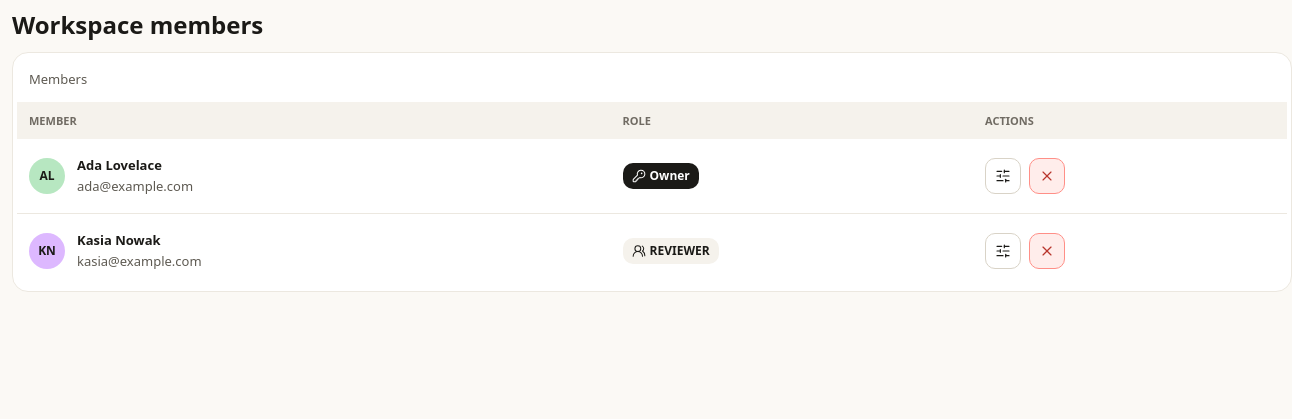
Scenario: changes Editor, Viewer and Owner roles through keyboard menus and refetched badges
Expected: the text "REVIEWER" is shown, x1=623 y1=238 x2=719 y2=264
Expected: the column headings read "Member", "Role", "Actions", in this order, x1=17 y1=102 x2=611 y2=139; x1=611 y1=102 x2=973 y2=139; x1=973 y1=102 x2=1287 y2=139
Press ArrowDown in the button named "Role for Kasia Nowak", box x1=985 y1=233 x2=1021 y2=269
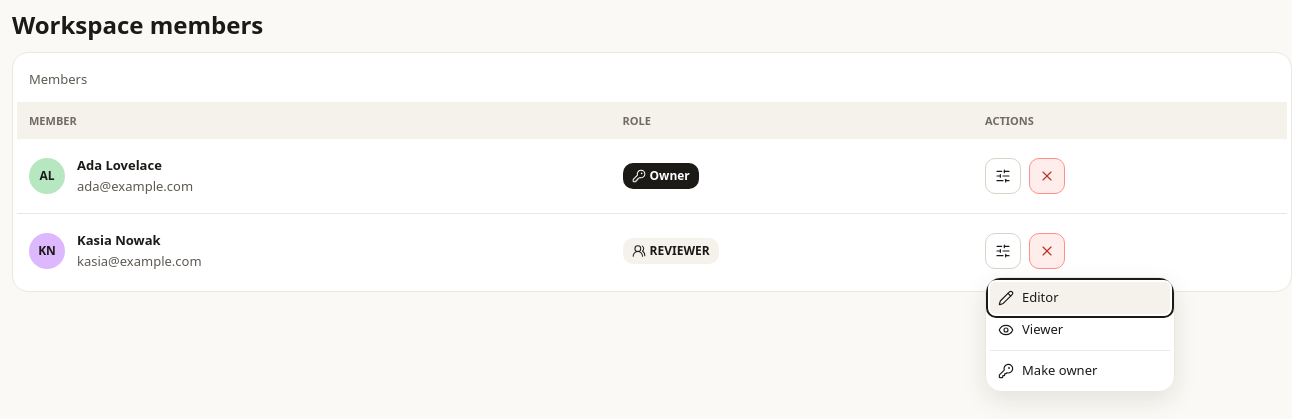
Click the menu item "Editor": (1080, 298) x1=990 y1=282 x2=1170 y2=314
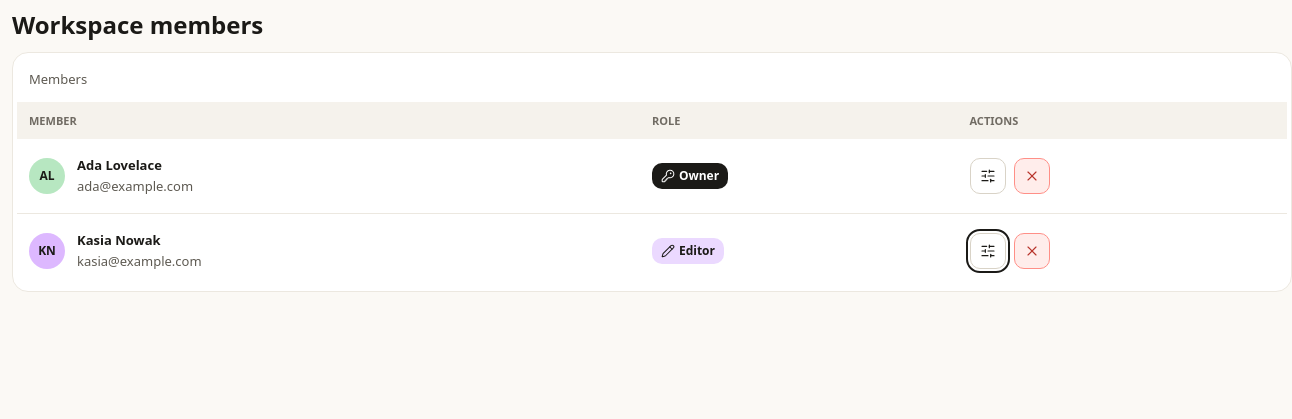
Now the row "KN Kasia Nowak kasia@example.com Editor" is shown, box x1=17 y1=213 x2=1287 y2=287
Press ArrowDown in the button named "Role for Kasia Nowak", box x1=970 y1=233 x2=1006 y2=269
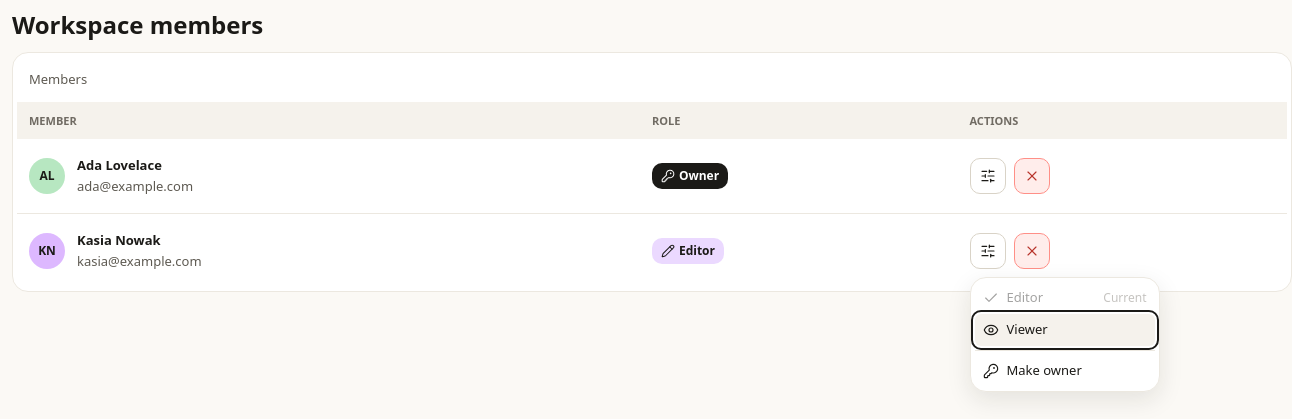
Click the menu item "Viewer": (1064, 330) x1=974 y1=314 x2=1154 y2=346
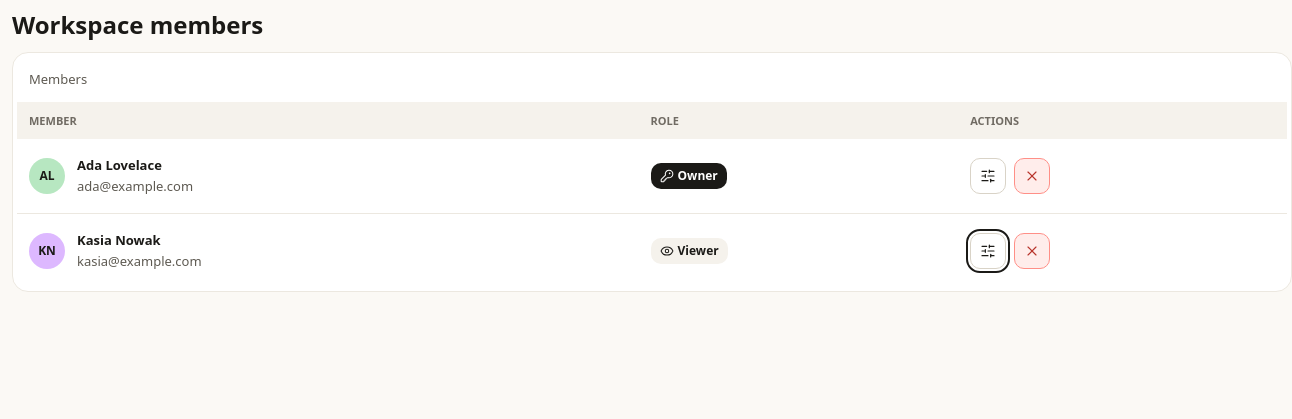
Now the row "KN Kasia Nowak kasia@example.com Viewer" is shown, box x1=17 y1=213 x2=1287 y2=287
Press ArrowDown in the button named "Role for Kasia Nowak", box x1=970 y1=233 x2=1006 y2=269
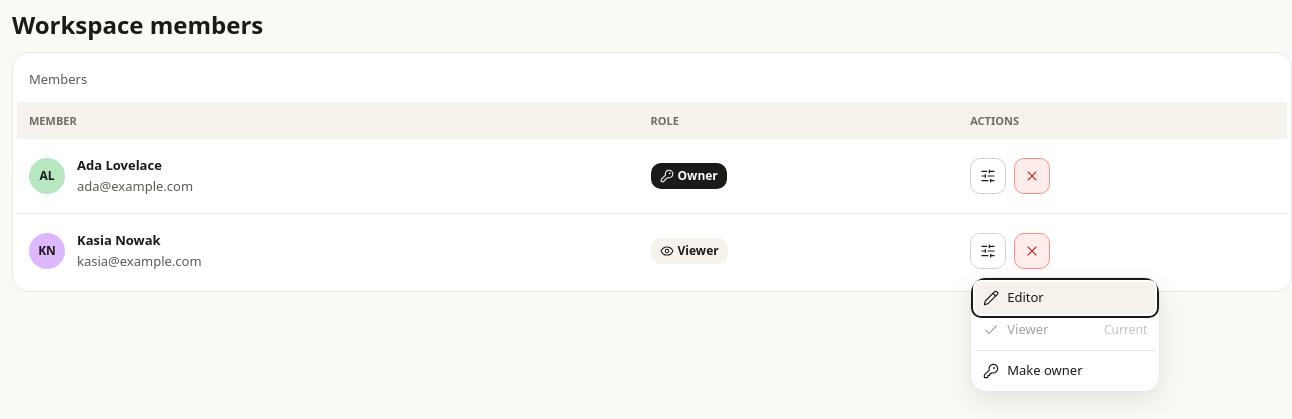
Click the menu item "Make owner": (1065, 371) x1=975 y1=355 x2=1155 y2=387
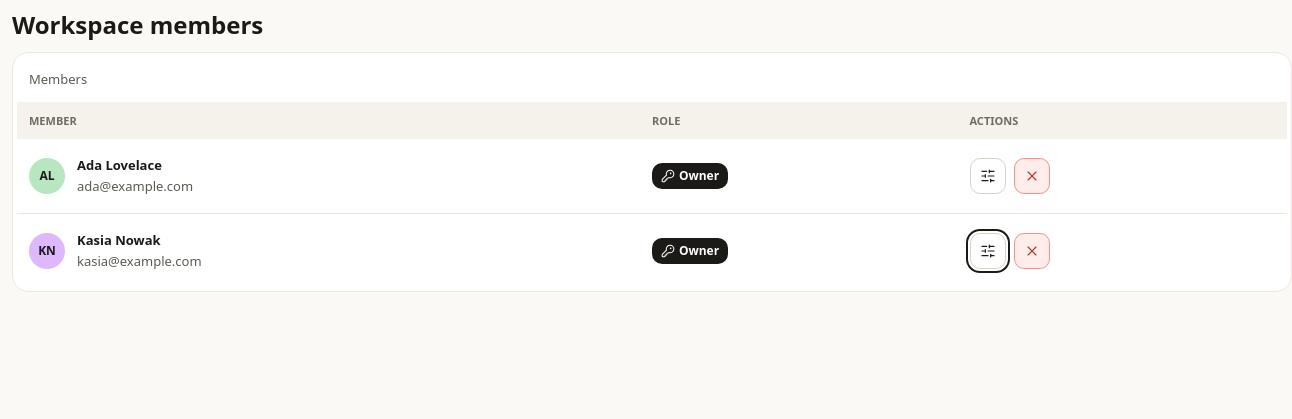
Now the row "KN Kasia Nowak kasia@example.com Owner" is shown, box x1=17 y1=213 x2=1287 y2=287
